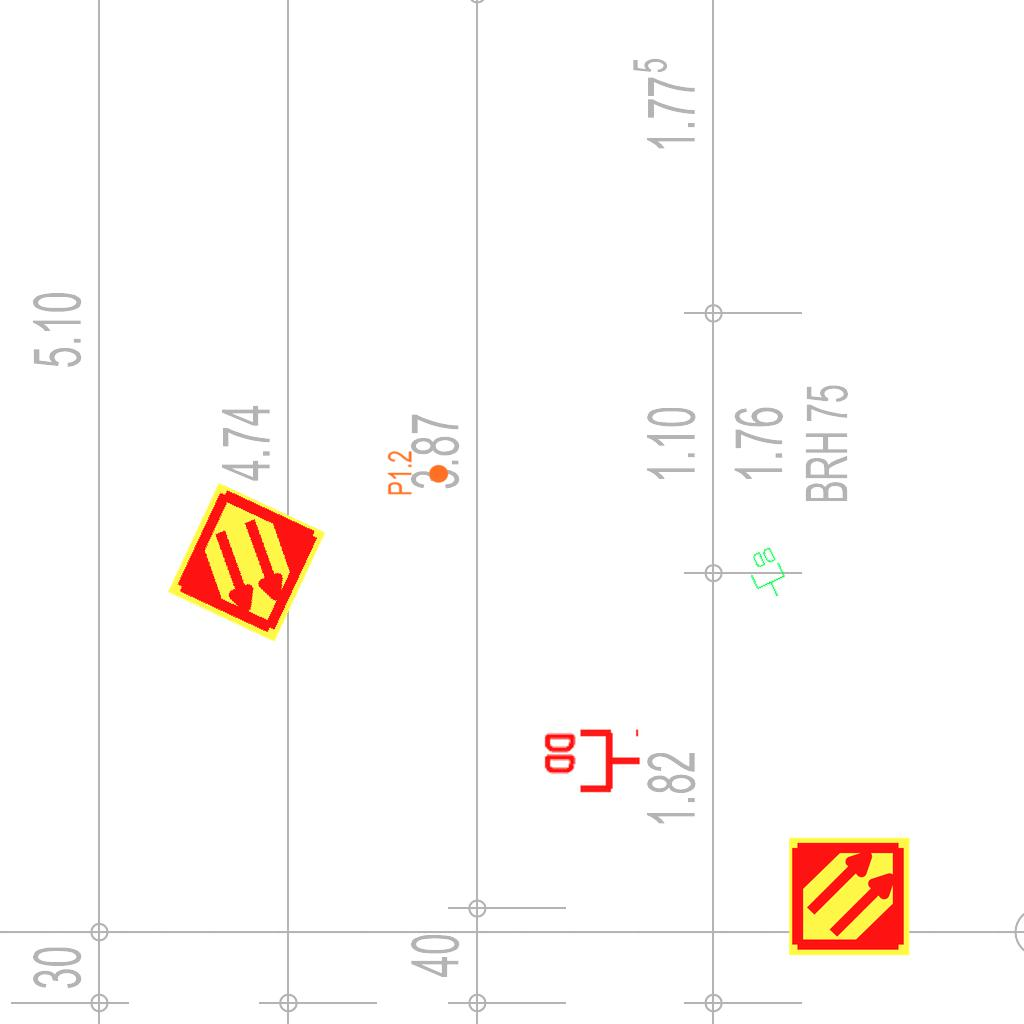ASR_Ansaugrauchmelder: (163, 479, 330, 646), (787, 834, 912, 959)
Datenanschluss_zweifach: (540, 728, 643, 797), (741, 543, 794, 605)
Downlight_LED_Einbauleuchten_Flur: (386, 450, 450, 496)
